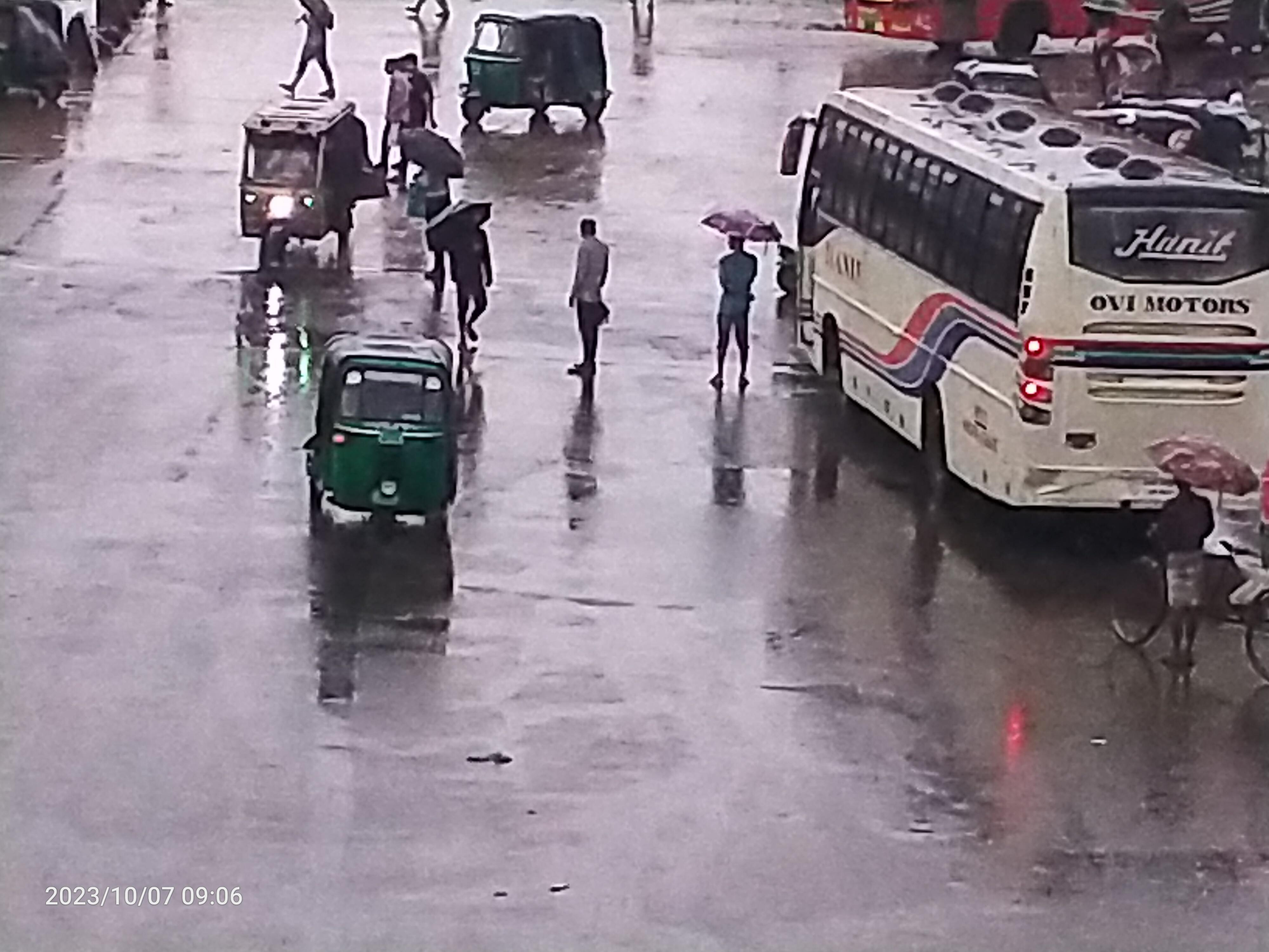Bus: (751, 63, 1269, 527), (825, 0, 1269, 60)
Car: (1089, 435, 1269, 702), (186, 86, 387, 297)
